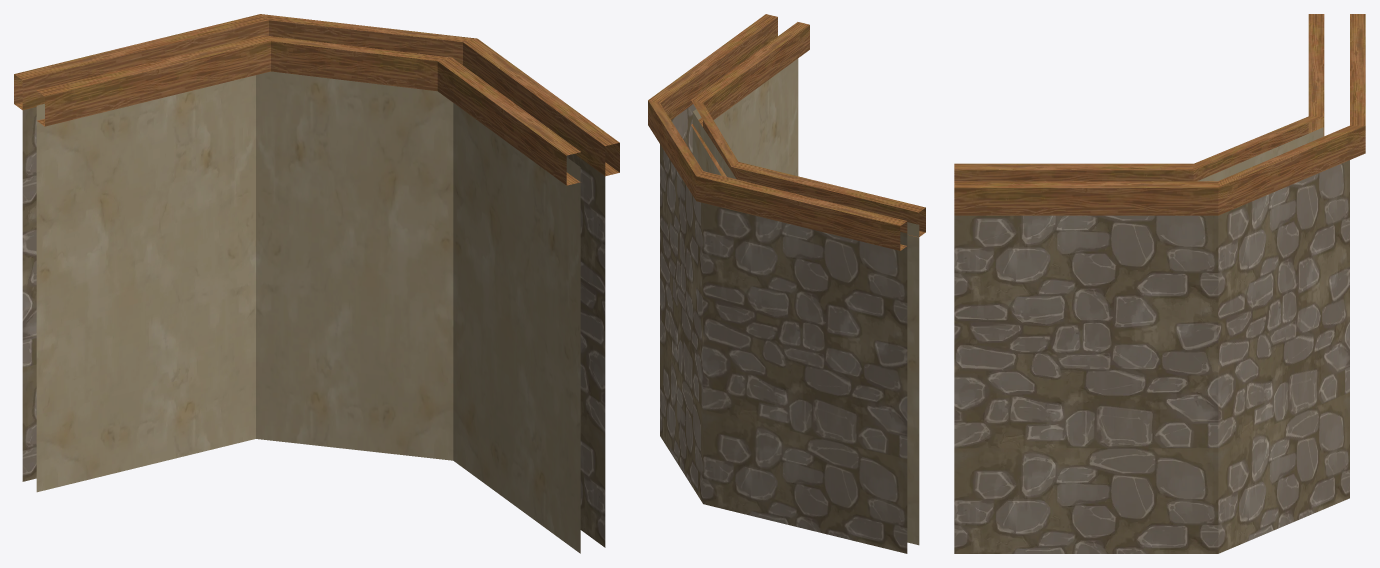
File: overhang_unevenbrick_corner_front.glb
3 views of the same model, side by side, from view 1: azimuth 30°, elevation 25°; view 2: azimuth 150°, elevation 25°; view 3: azimuth 270°, elevation 25° (orthographic). The views are drawn at different scales.
Size of the model in its own units: 3.12 by 3.12 by 3.12.
Materials: 3 (3 with a texture image).
